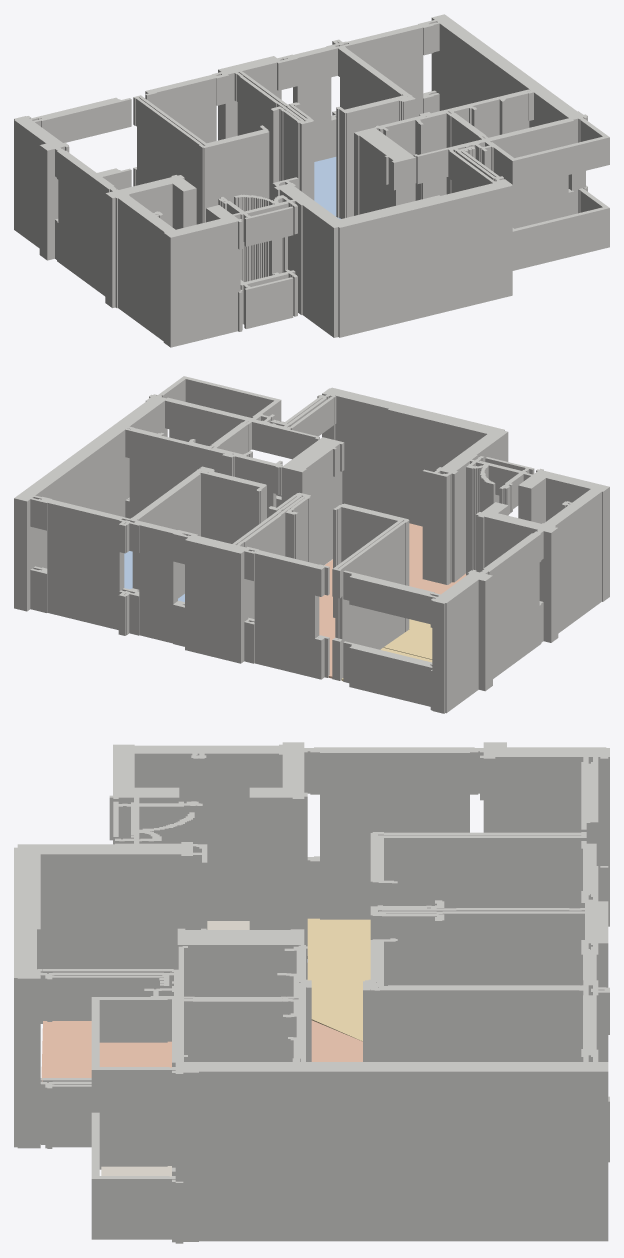
The picture shows the model from 3 angles, top to bottom: view 1: azimuth 30°, elevation 25°; view 2: azimuth 150°, elevation 25°; view 3: azimuth 270°, elevation 25°; orthographic projection. The views are drawn at different scales.
Visible parts, largest first — view 1: walls, room:bedroom:4; view 2: walls, room:kitchen:5, room:living:2; view 3: walls, room:living:2, room:kitchen:5, room:other:12.
Part boxes in pixels (box(x1,y1,x2,y2)): walls: box(14, 14, 609, 347); room:bedroom:4: box(314, 157, 340, 219); walls: box(14, 376, 609, 713); room:kitchen:5: box(319, 523, 466, 678); room:living:2: box(383, 619, 432, 659); walls: box(14, 742, 609, 1243); room:living:2: box(307, 918, 370, 1041); room:kitchen:5: box(41, 1020, 362, 1081); room:other:12: box(101, 1166, 171, 1176).
Bounding box in the file's own units: 11.75 × 2.8 × 8.92.
